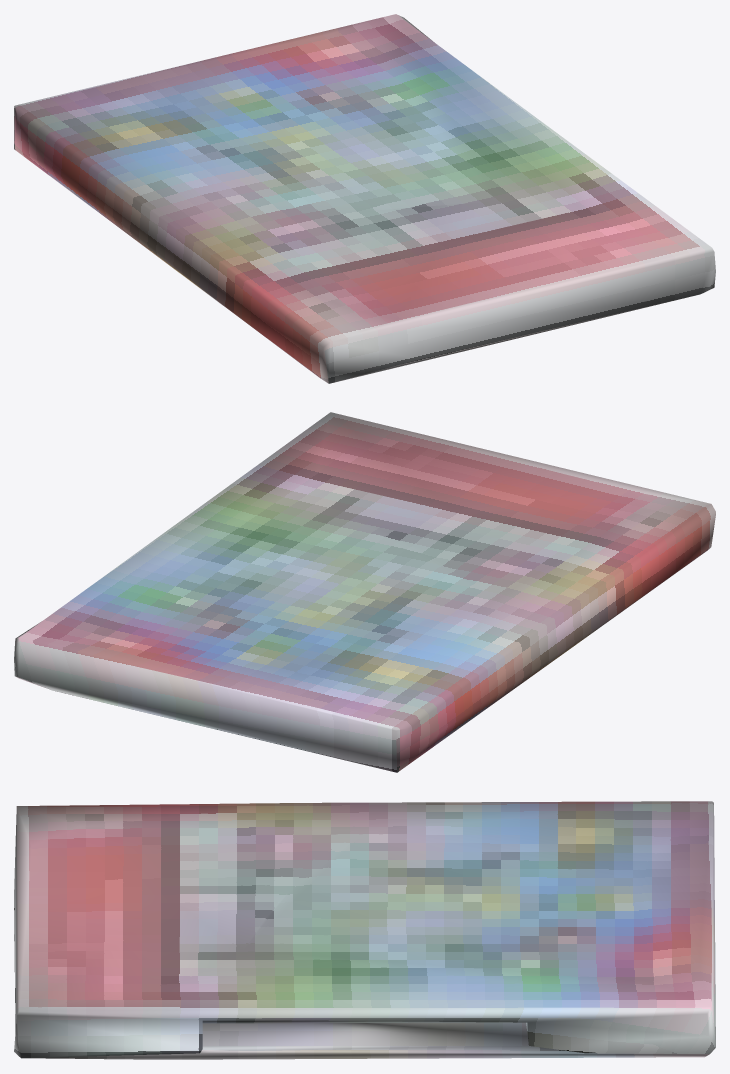
The model's file is New_Super_Mario_BrosWii_Wii_Game-low.glb.
3 views of the same model, one above another, from view 1: azimuth 30°, elevation 25°; view 2: azimuth 150°, elevation 25°; view 3: azimuth 270°, elevation 25° (orthographic). The views are drawn at different scales.
Visible parts, largest first — view 1: New_Super_Mario_BrosWii_Wii_Game; view 2: New_Super_Mario_BrosWii_Wii_Game; view 3: New_Super_Mario_BrosWii_Wii_Game.
Part boxes in pixels (left/top/right/bottom): New_Super_Mario_BrosWii_Wii_Game: left=14, top=14, right=715, bottom=383; New_Super_Mario_BrosWii_Wii_Game: left=14, top=412, right=715, bottom=772; New_Super_Mario_BrosWii_Wii_Game: left=14, top=801, right=715, bottom=1059.
Bounding box in the file's own units: 0.1365 × 0.0159 × 0.191.
1 material, 1 textured.
